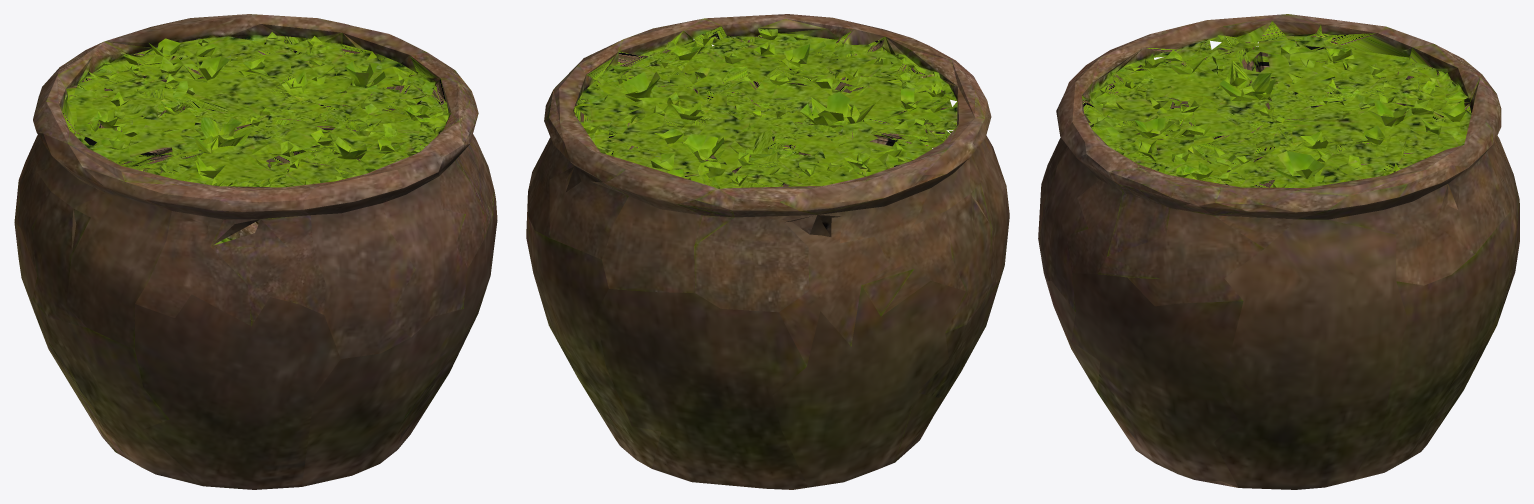
Rendered from w3waterjar.glb.
The picture shows the model from 3 angles, left to right: view 1: azimuth 30°, elevation 25°; view 2: azimuth 150°, elevation 25°; view 3: azimuth 270°, elevation 25°; orthographic projection.
Visible parts, largest first — view 1: w3waterjar_near, w3waterjar_far; view 2: w3waterjar_near, w3waterjar_far; view 3: w3waterjar_near, w3waterjar_far.
Boxes of the visible parts, left/top/right/bottom form: w3waterjar_near: left=14, top=14, right=497, bottom=489; w3waterjar_far: left=57, top=14, right=484, bottom=441; w3waterjar_near: left=526, top=14, right=1009, bottom=489; w3waterjar_far: left=543, top=21, right=1007, bottom=484; w3waterjar_near: left=1038, top=14, right=1519, bottom=489; w3waterjar_far: left=1072, top=14, right=1496, bottom=487.
Bounding box in the file's own units: 0.62 × 0.4619 × 0.621.
Materials: 1 (1 with a texture image).
